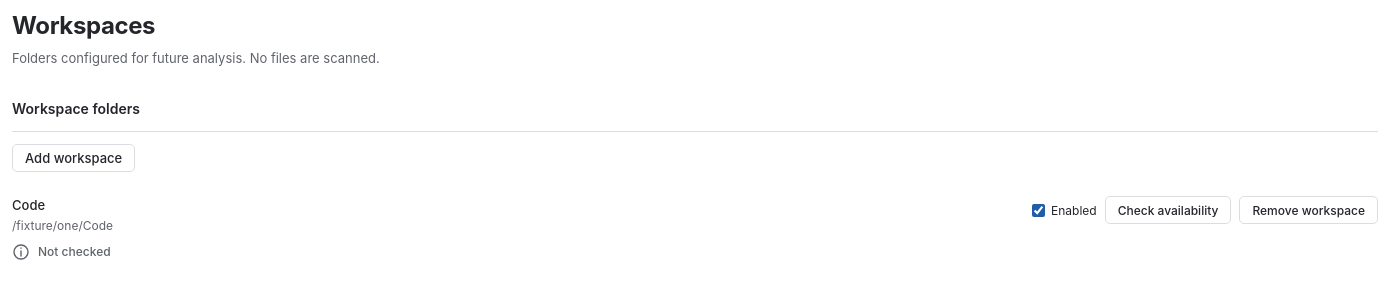
Test: Workspaces view › reports denied without implying content access
Click the button "Check availability" at (1168, 210), box [1105, 196, 1232, 224]
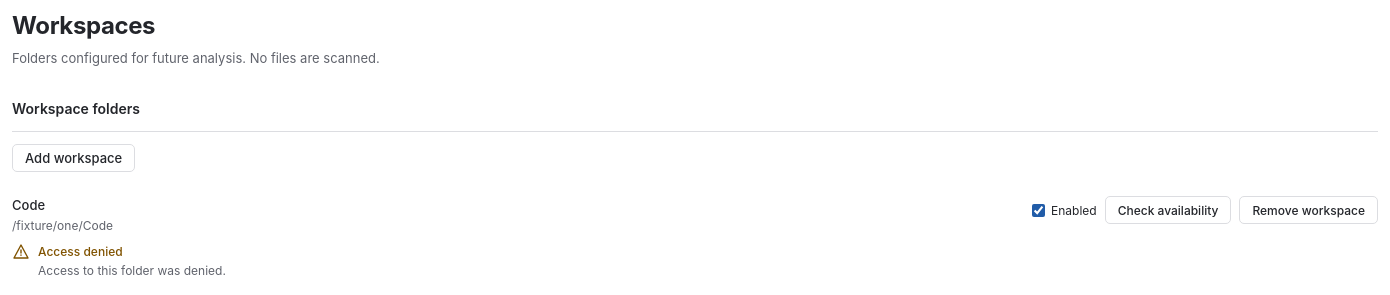
Expected: the text "Access to this folder was denied." is shown, [38, 263, 226, 278]
